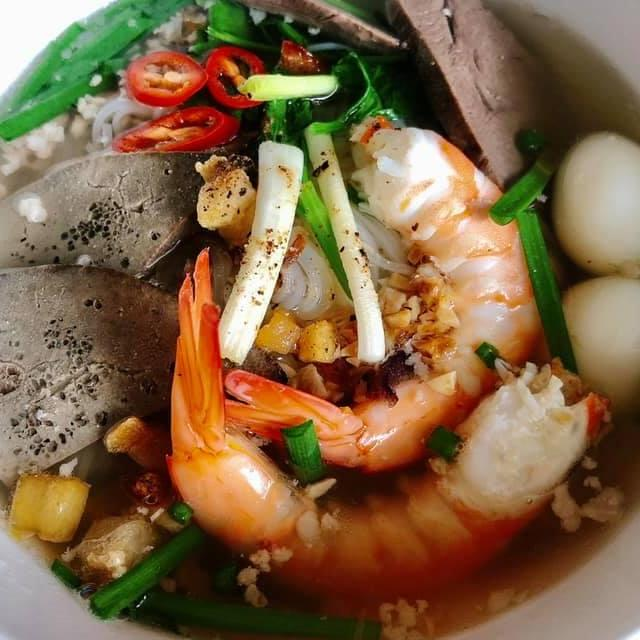banh hu tieu: (261, 195, 424, 321)
gan: (0, 248, 218, 488), (373, 0, 596, 208), (0, 131, 236, 292), (173, 0, 426, 69)
hu tieu: (0, 0, 640, 640)
thit bam: (0, 0, 217, 177)
tom: (153, 239, 612, 613), (202, 108, 567, 481)
trung: (543, 120, 640, 281), (546, 263, 640, 415)
